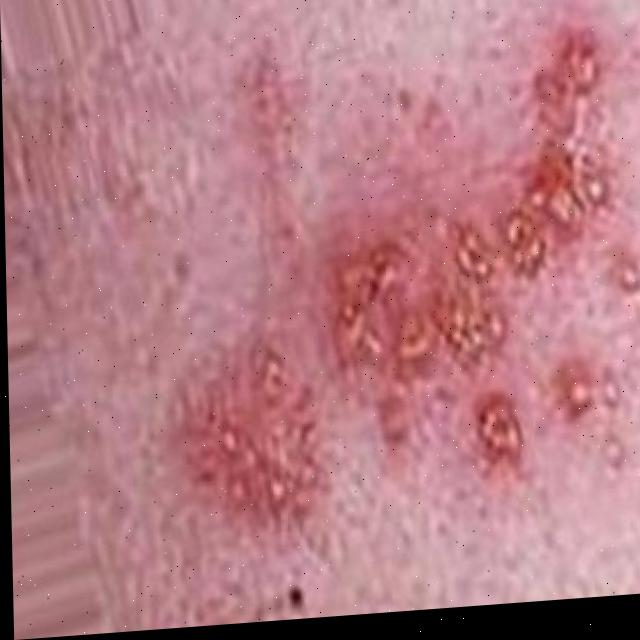Shingles: (333, 67, 619, 474), (211, 363, 310, 500)
